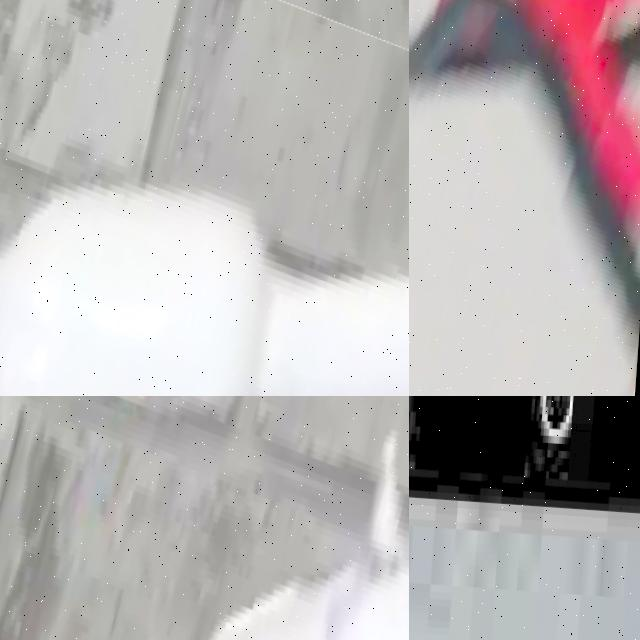drone: (0, 0, 409, 396), (0, 396, 409, 640), (409, 0, 640, 396)
